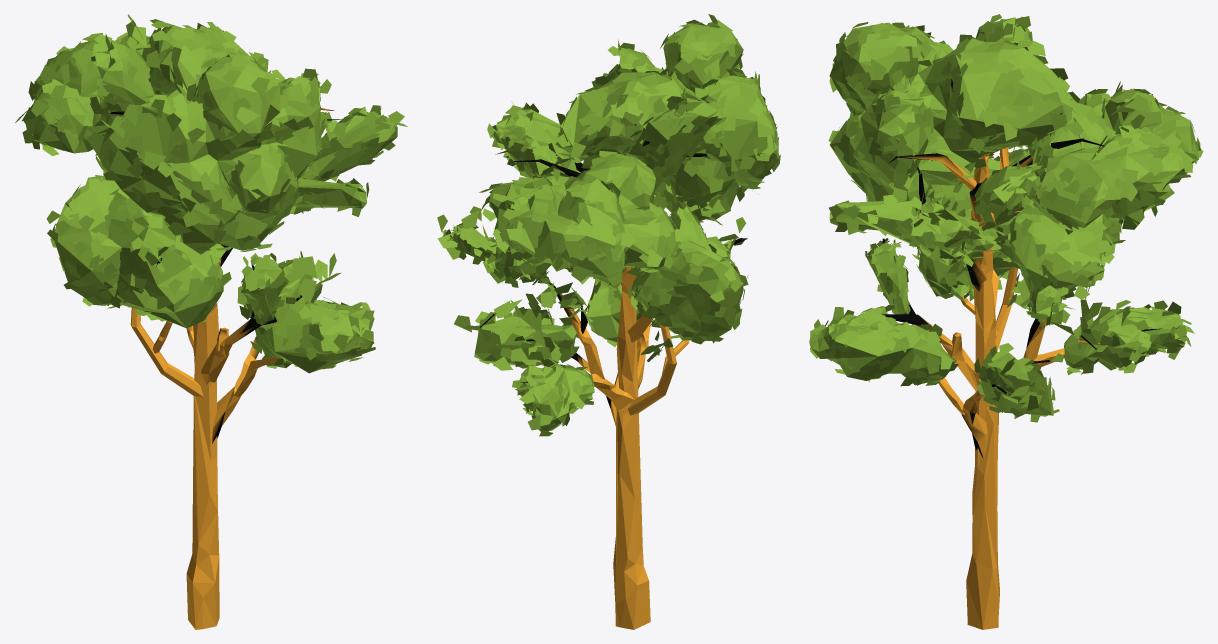
The model's file is SM_Tree_London_Planetree_A.fbx.
3 renders of one model, left to right at view 1: azimuth 30°, elevation 25°; view 2: azimuth 150°, elevation 25°; view 3: azimuth 270°, elevation 25°, orthographic. The views are drawn at different scales.
Parts seen in each view (by area): view 1: SM_Tree_London_Planetree_A; view 2: SM_Tree_London_Planetree_A; view 3: SM_Tree_London_Planetree_A.
Part boxes in pixels (x1,y1,x2,y2): SM_Tree_London_Planetree_A: (15,14,407,629); SM_Tree_London_Planetree_A: (437,14,780,629); SM_Tree_London_Planetree_A: (809,14,1203,629).
Size of the model in its own units: 5.12 by 9.5 by 5.75.
